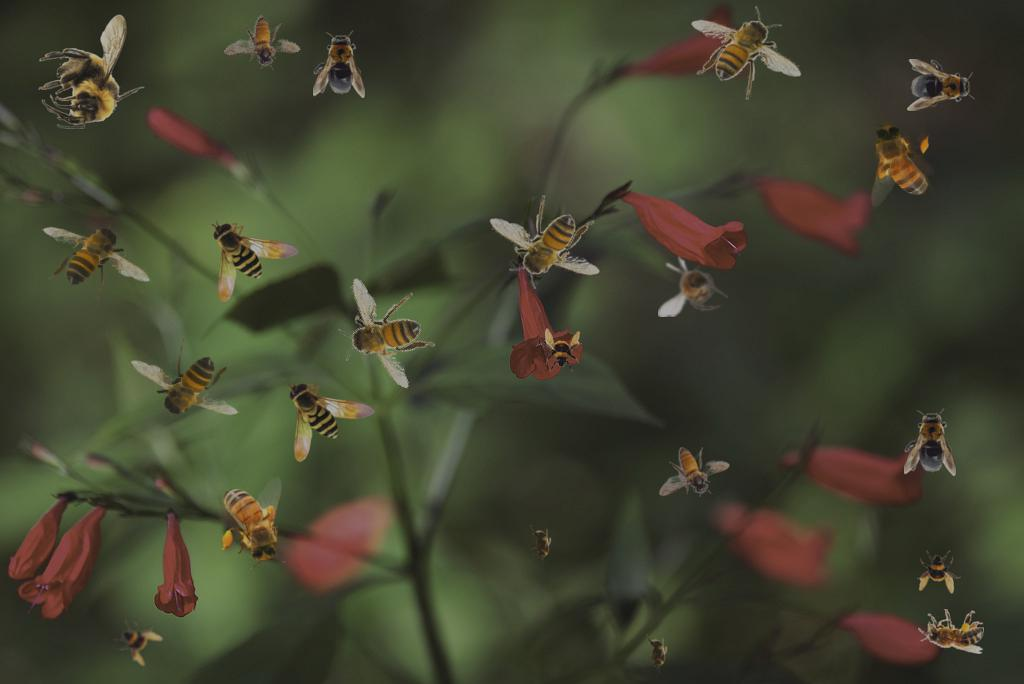Bee: (310, 258, 457, 402), (38, 14, 145, 129), (489, 195, 600, 289), (129, 336, 240, 430), (41, 212, 152, 306), (691, 6, 802, 100), (211, 220, 299, 302), (287, 380, 375, 462), (218, 476, 286, 569), (866, 116, 934, 209), (222, 7, 308, 80), (658, 256, 728, 317), (107, 609, 169, 671), (659, 447, 730, 497), (904, 408, 956, 476), (313, 30, 365, 98), (907, 59, 975, 111), (918, 609, 984, 654), (538, 328, 582, 372), (917, 550, 961, 594), (530, 525, 552, 565), (646, 634, 668, 674)
